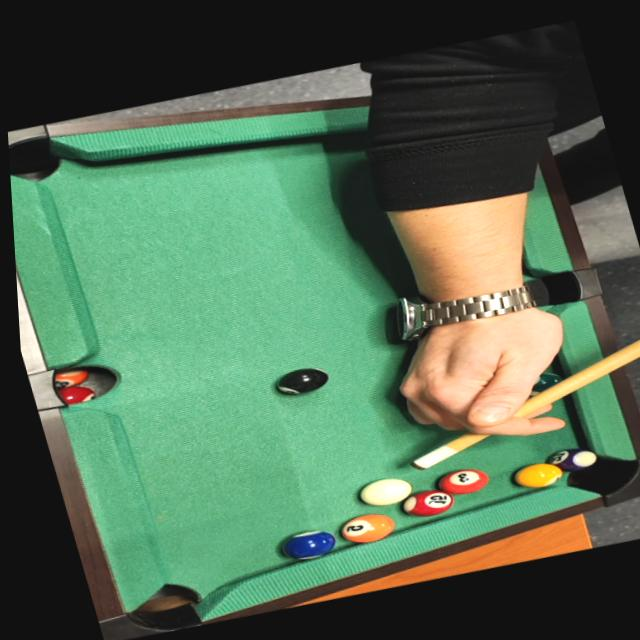cue ball: (354, 471, 418, 513)
other: (335, 505, 405, 551), (275, 522, 344, 568), (262, 361, 337, 403), (504, 455, 566, 495), (430, 461, 492, 501), (539, 441, 603, 479), (400, 484, 458, 522)
